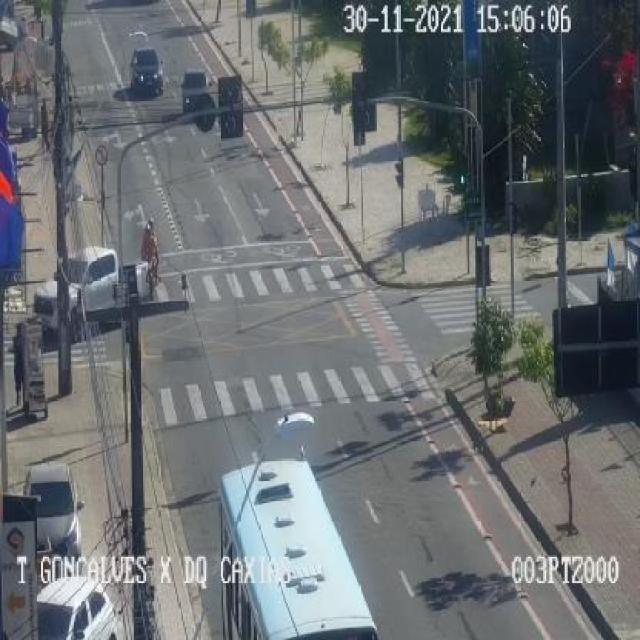Bus: (210, 441, 386, 640)
Car: (29, 245, 149, 342), (176, 71, 217, 137), (130, 41, 168, 106)
Cycle: (126, 202, 178, 294)
